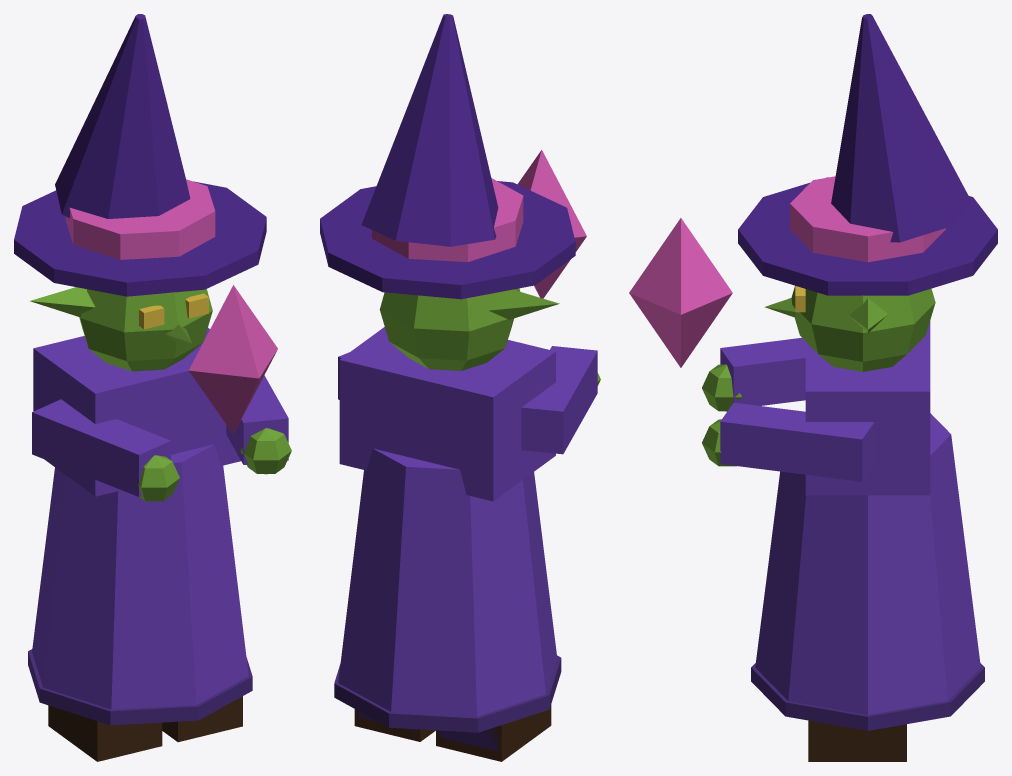
File: e_blinker.fbx
3 views of the same model, side by side, from view 1: azimuth 30°, elevation 25°; view 2: azimuth 150°, elevation 25°; view 3: azimuth 270°, elevation 25° (orthographic).
Parts seen in each view (by area): view 1: e_blinker_Body, e_blinker_LegR, e_blinker_LegL; view 2: e_blinker_Body, e_blinker_LegR, e_blinker_LegL; view 3: e_blinker_Body, e_blinker_LegL.
Part boxes in pixels (left/top/right/bottom): e_blinker_Body: left=14, top=14, right=291, bottom=725; e_blinker_LegR: left=48, top=705, right=162, bottom=761; e_blinker_LegL: left=162, top=696, right=242, bottom=742; e_blinker_Body: left=320, top=14, right=600, bottom=732; e_blinker_LegR: left=436, top=704, right=551, bottom=761; e_blinker_LegL: left=354, top=709, right=435, bottom=741; e_blinker_Body: left=629, top=14, right=997, bottom=730; e_blinker_LegL: left=808, top=720, right=906, bottom=761.
Size of the model in its own units: 0.4977 by 1.51 by 0.71.
